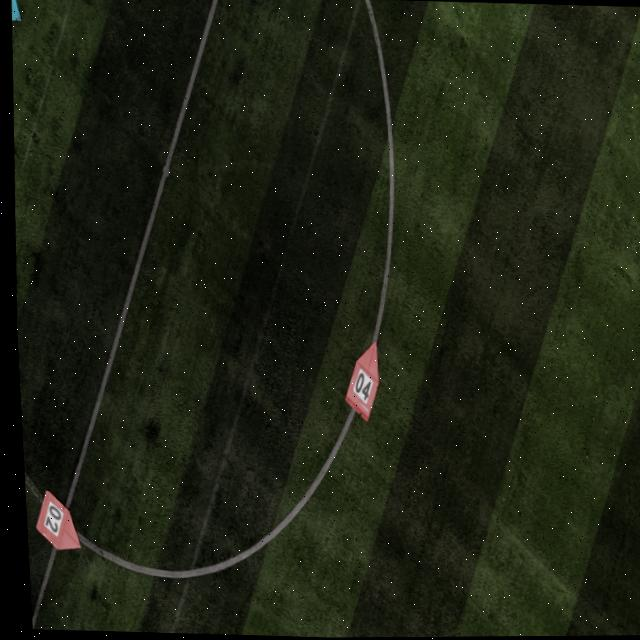board: (29, 487, 76, 550), (340, 340, 375, 424), (11, 0, 22, 21)
